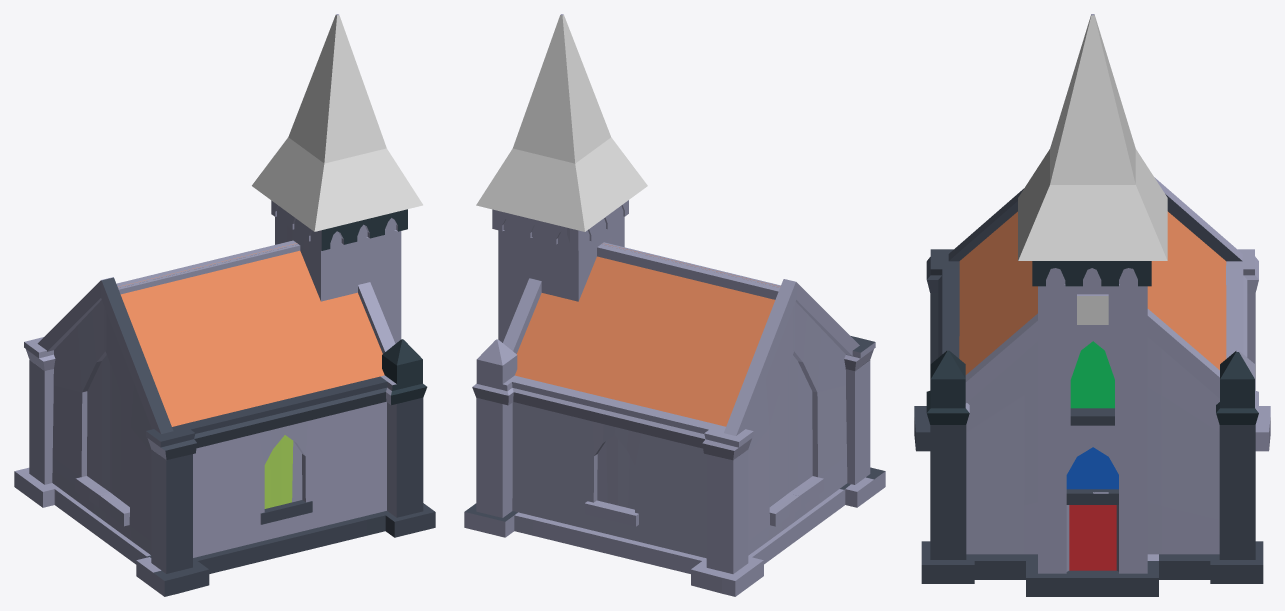
The model's file is Backgroundchurch.fbx.
The picture shows the model from 3 angles, left to right: view 1: azimuth 30°, elevation 25°; view 2: azimuth 150°, elevation 25°; view 3: azimuth 270°, elevation 25°; orthographic projection. The views are drawn at different scales.
Parts seen in each view (by area): view 1: Cube; view 2: Cube; view 3: Cube.
Part boxes in pixels (x1=…): Cube: x1=14, y1=14, x2=435, y2=596; Cube: x1=464, y1=14, x2=885, y2=596; Cube: x1=914, y1=14, x2=1270, y2=596.
Bounding box in the file's own units: 755 × 1111 × 648.
